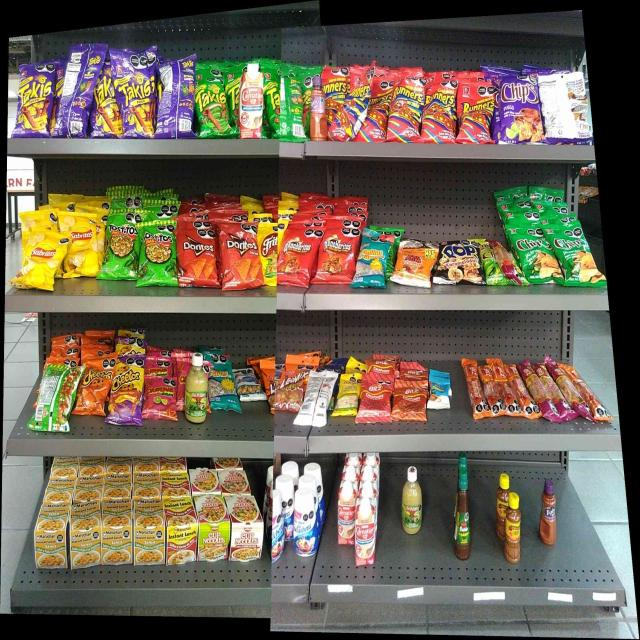bitzAlmendras: (429, 376, 449, 408)
bitzEnchilado90: (361, 377, 392, 422), (394, 380, 426, 419)
bitzEnchilado95: (462, 359, 523, 418)
bitzHabanero: (526, 360, 578, 422), (490, 240, 515, 279), (588, 389, 613, 419)
botaneraChilito: (506, 492, 521, 563)
cheetosFlaminHot: (112, 356, 143, 424)
cheetosOriginal: (83, 359, 111, 413)
chipsFuego: (497, 80, 539, 142)
chipsJalapeno: (553, 226, 590, 286), (516, 229, 553, 283)
churrumais: (144, 377, 177, 418)
delPrimoSalsa: (185, 352, 207, 422), (403, 463, 422, 535)
doritosNacho: (222, 226, 258, 282), (181, 229, 215, 284)
fritosLimon: (259, 224, 281, 284)
hotNutsOriginal: (399, 238, 436, 283)
leoCacahuates: (237, 365, 259, 400)
leoMix: (278, 363, 303, 405), (262, 361, 278, 402)
maruchanPollo: (36, 503, 69, 570), (101, 499, 132, 563), (134, 498, 164, 564), (70, 501, 100, 564)
maruchanRes: (164, 499, 197, 561)
nestleCarnation: (240, 68, 263, 138), (356, 499, 374, 563), (339, 488, 355, 544)
nestleLechera: (293, 491, 318, 553), (268, 492, 285, 564)
nissinCamaron: (197, 494, 228, 558)
nissinRes: (230, 497, 259, 560)
popKarameladas: (439, 240, 480, 285)
productoAtras: (56, 47, 92, 136), (158, 56, 196, 138), (540, 78, 585, 142), (39, 363, 75, 430), (304, 374, 335, 424), (281, 75, 303, 140)
rancheritos: (281, 228, 315, 284), (321, 225, 354, 281)
runners: (391, 77, 425, 142), (458, 84, 494, 143), (426, 82, 455, 142), (362, 91, 391, 142), (326, 70, 350, 114), (331, 114, 359, 141)
sabritasOriginal: (65, 217, 98, 273), (22, 234, 56, 288)
salsaBufalo: (456, 468, 470, 558)
semillasCalabaza: (339, 377, 359, 415)
semillasGirasol: (356, 236, 388, 286), (208, 356, 236, 411)
tajinDulce: (310, 76, 326, 140), (541, 479, 556, 544)
takisFuego: (120, 55, 156, 136), (18, 62, 54, 136), (94, 80, 119, 136)
takisOriginal: (197, 78, 226, 136), (264, 70, 280, 139), (226, 80, 240, 136)
tostitos: (141, 228, 176, 283), (107, 220, 138, 274)
